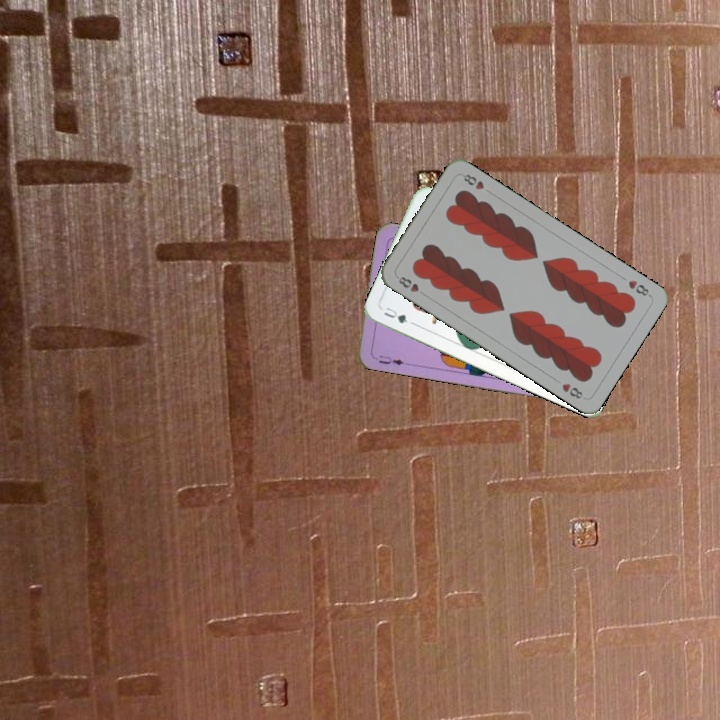EU: (369, 351, 409, 368)
GU: (380, 303, 410, 326)
H8: (393, 272, 429, 299), (624, 276, 653, 299)
